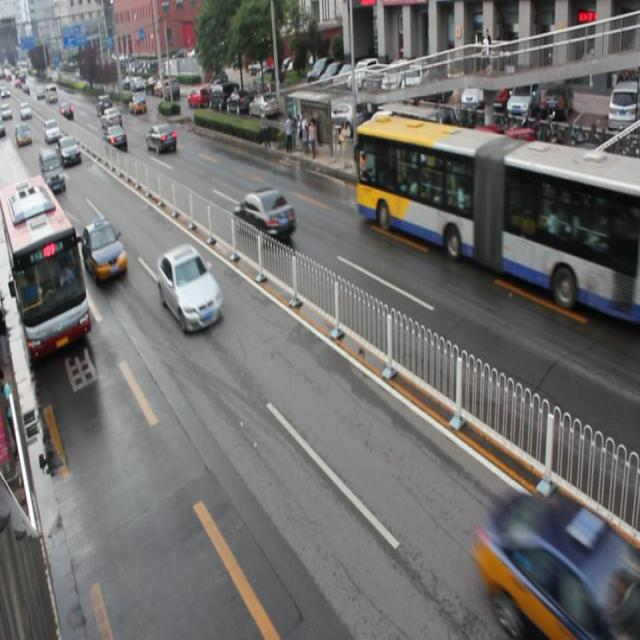car: (480, 493, 640, 640), (158, 246, 223, 332), (233, 188, 295, 242), (83, 216, 127, 282), (146, 124, 178, 153), (105, 124, 127, 149)
truck: (39, 147, 65, 193)
van: (354, 111, 640, 319), (1, 178, 92, 360)
